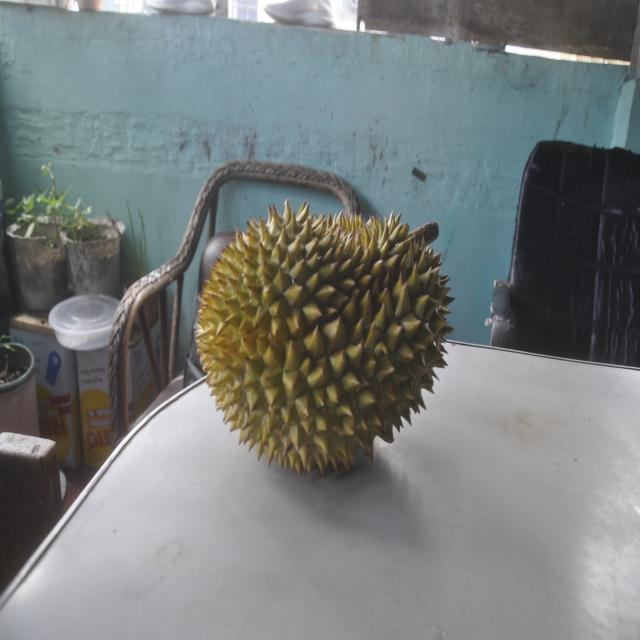mature: (202, 196, 444, 480)
